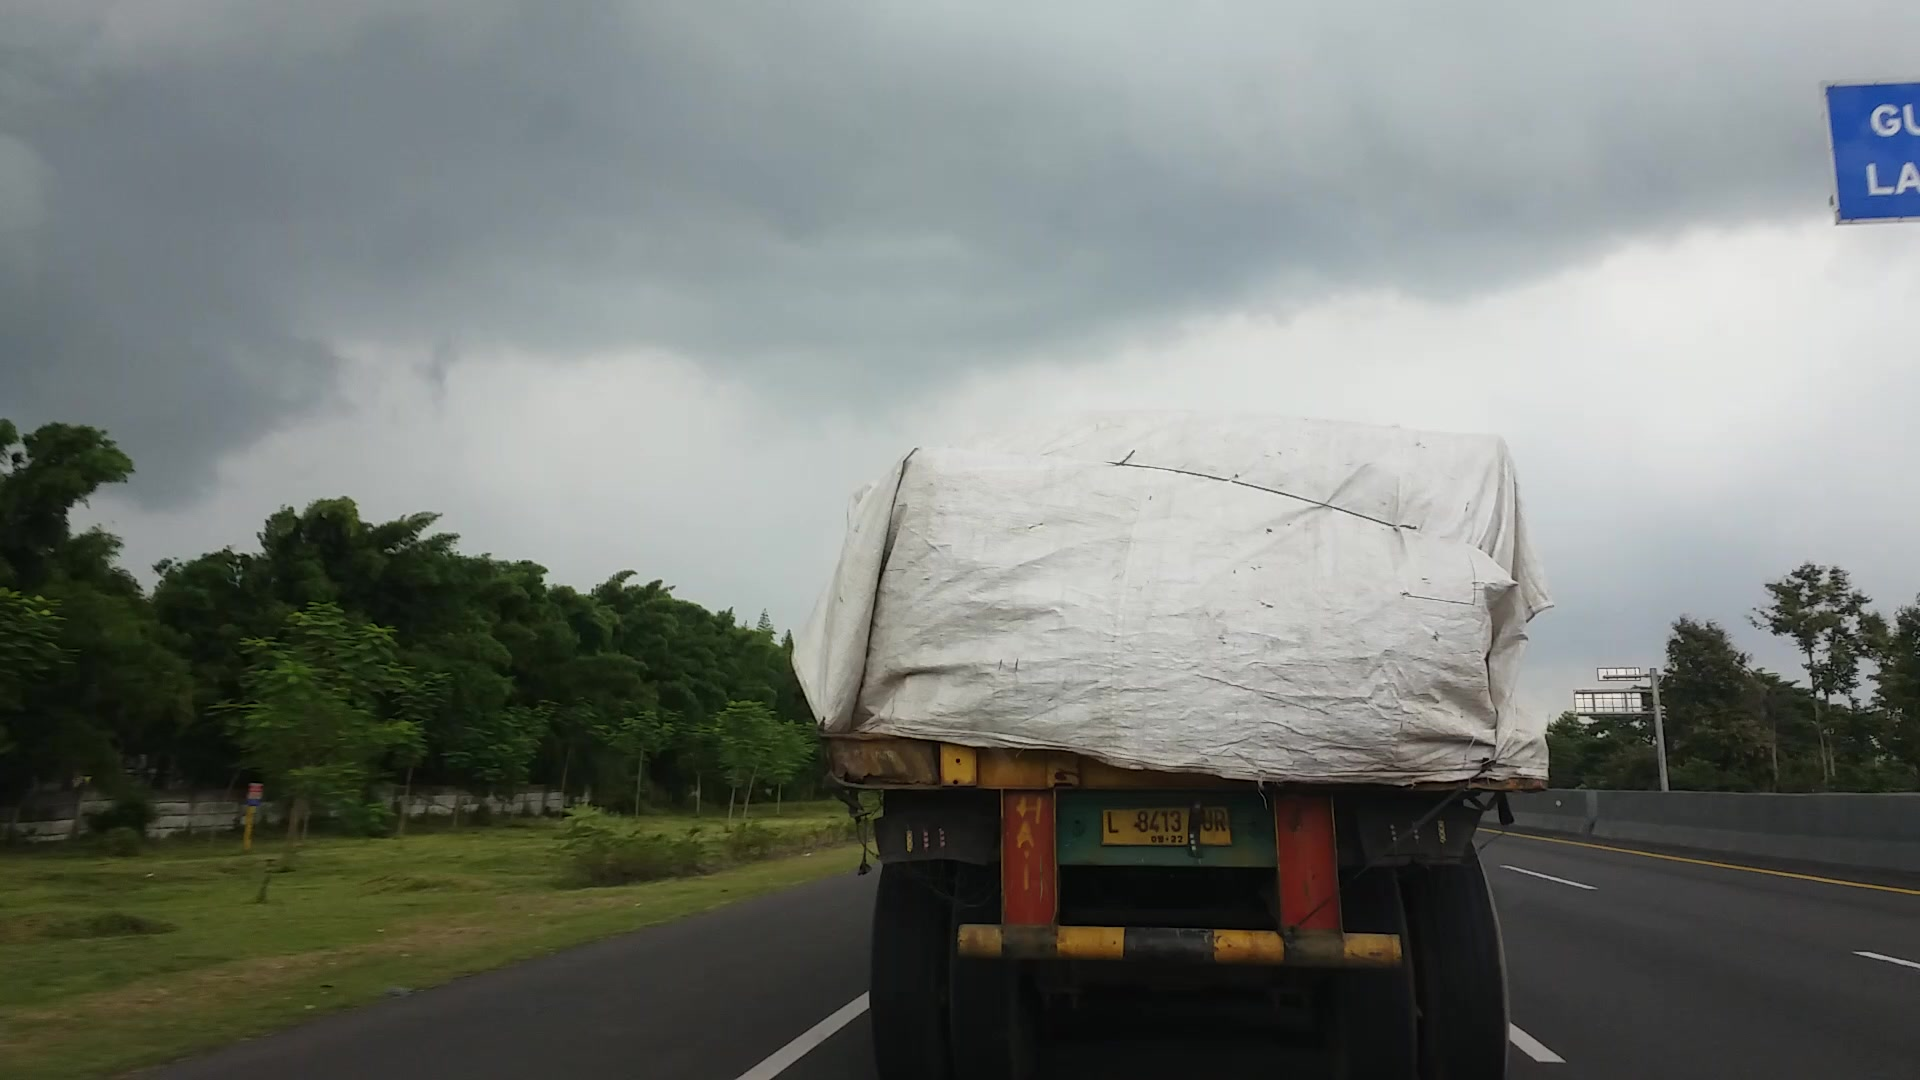plate_positive: (1102, 806, 1229, 847)
